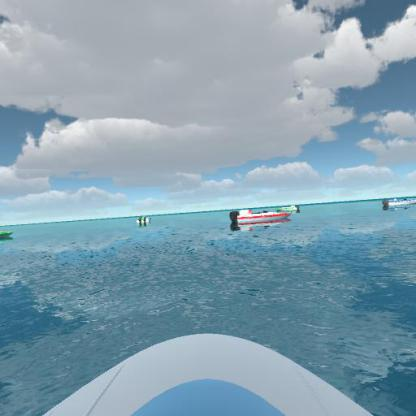usv0: (133, 210, 154, 228), (276, 201, 301, 215), (0, 225, 15, 243)
usv1: (380, 194, 416, 213)
usv3: (228, 205, 294, 228)
